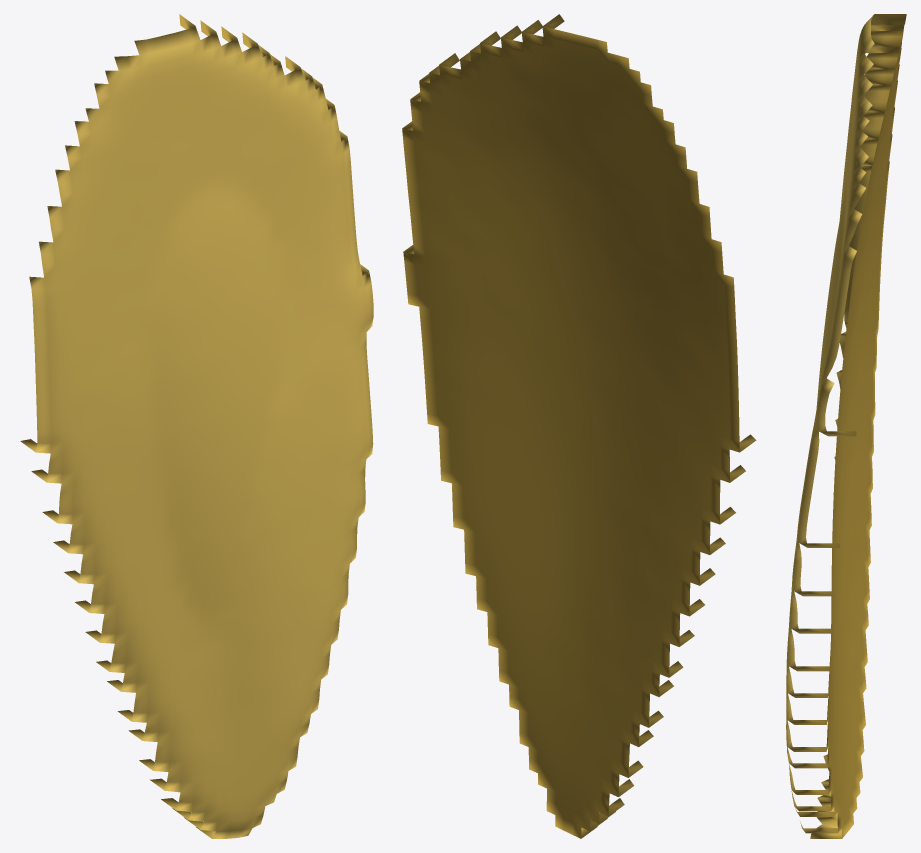
Rendered from PAIR-CUBOID-PAD_RIGHT_addon.glb.
3 renders of one model, left to right at view 1: azimuth 30°, elevation 25°; view 2: azimuth 150°, elevation 25°; view 3: azimuth 270°, elevation 25°, orthographic. The views are drawn at different scales.
Parts seen in each view (by area): view 1: geometry_0; view 2: geometry_0; view 3: geometry_0.
Part boxes in pixels (x1,y1,x2,y2): geometry_0: (20, 14, 373, 838); geometry_0: (402, 14, 756, 838); geometry_0: (786, 14, 906, 838).
Bounding box in the file's own units: 32 × 74 × 10.31.
